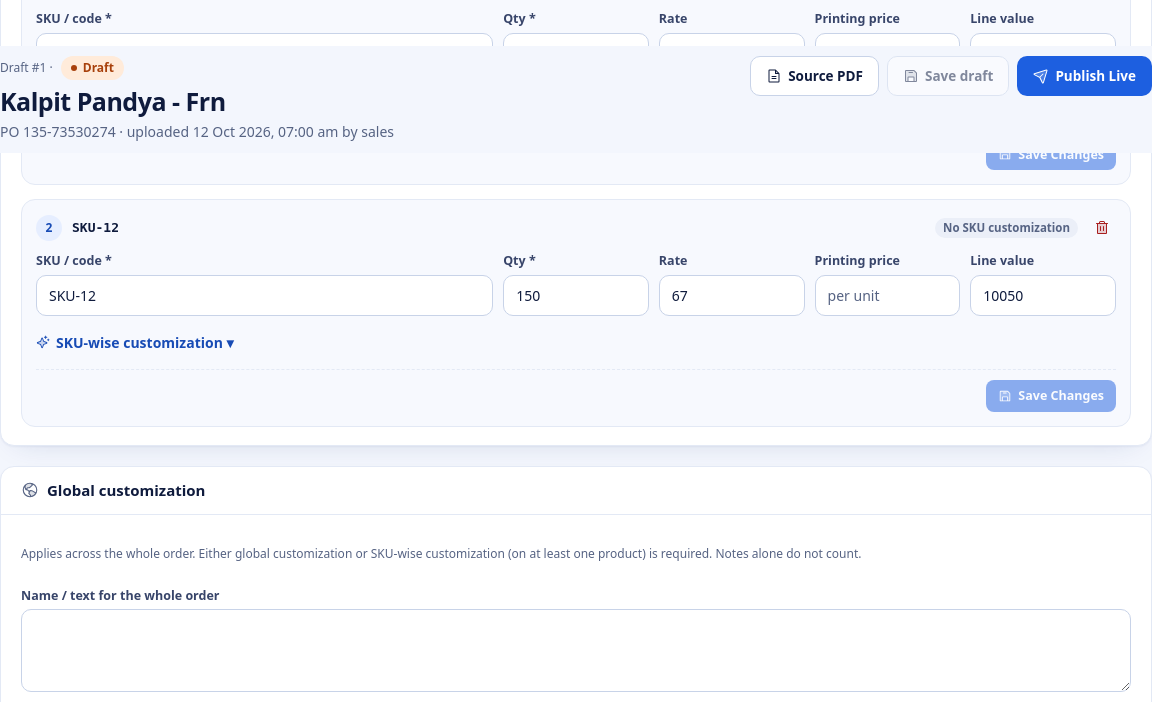
Test: Save draft › makes a failed save impossible to miss and keeps the edits
The width and height of the screenshot is (1152, 702).
(page scrolled)
Click the button "SKU-wise customization ▾" at [135, 342], box [36,328,234,357]
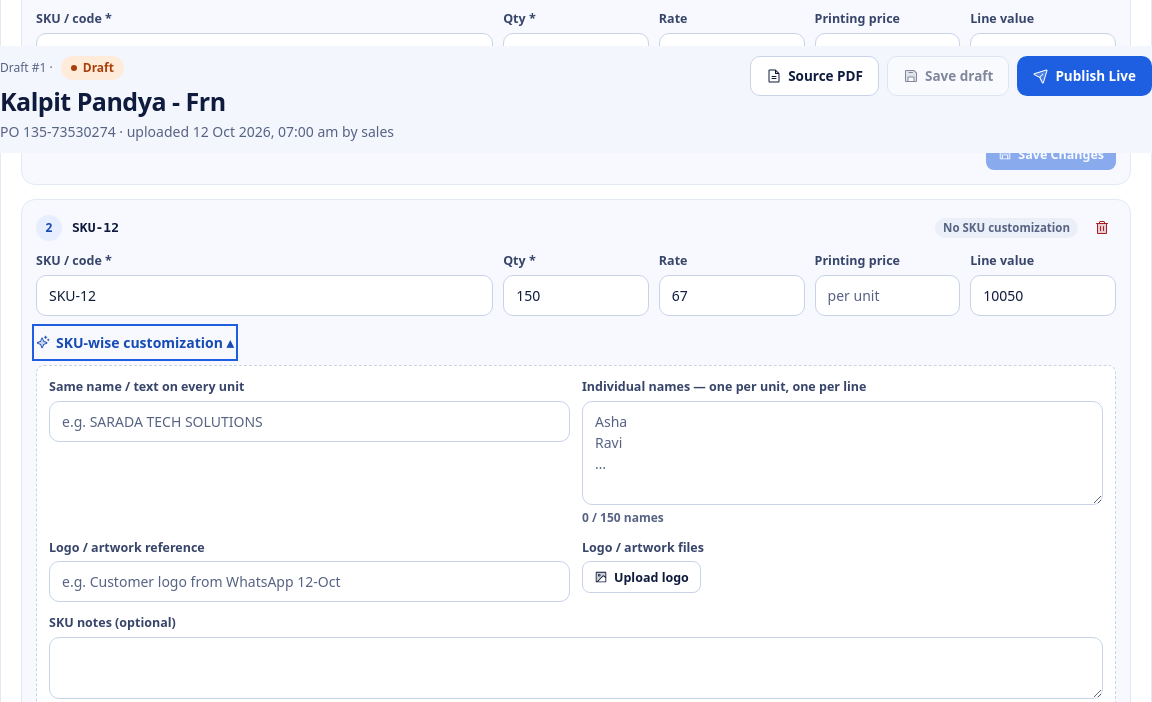
Type "keep me" into the text box labelled "SKU notes (optional)" at [576, 668], box [49,637,1103,699]
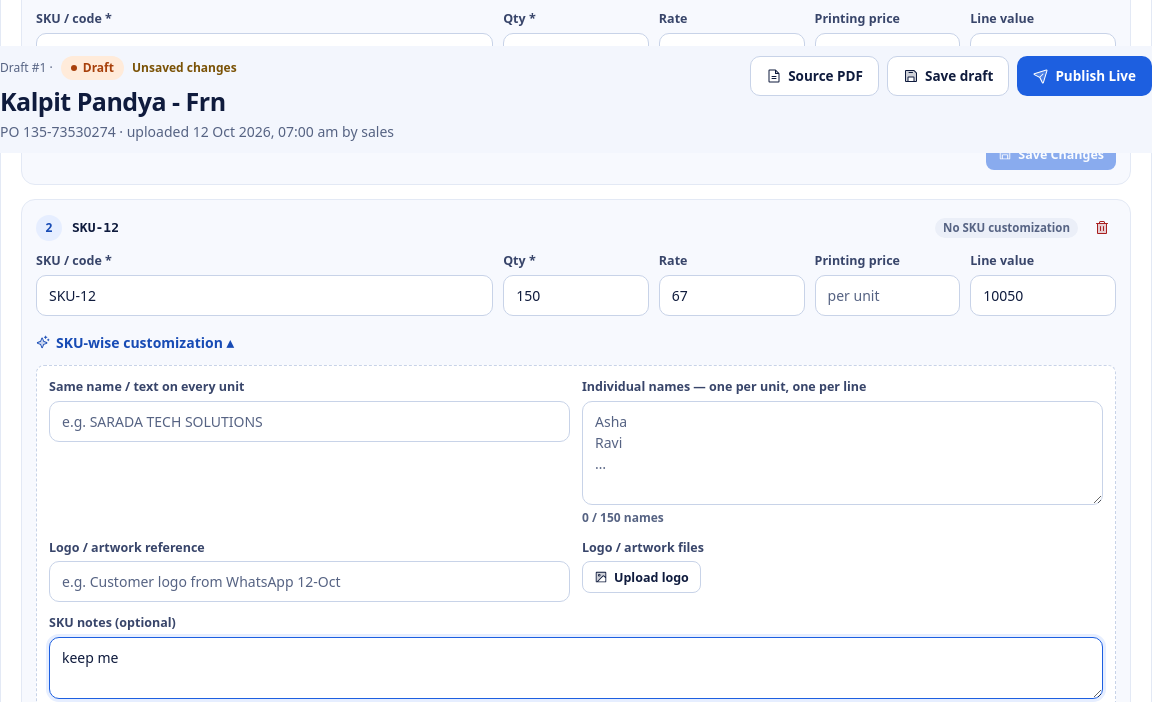
Click the button "Save draft" at [948, 76], box [887,56,1009,96]
(page scrolled)
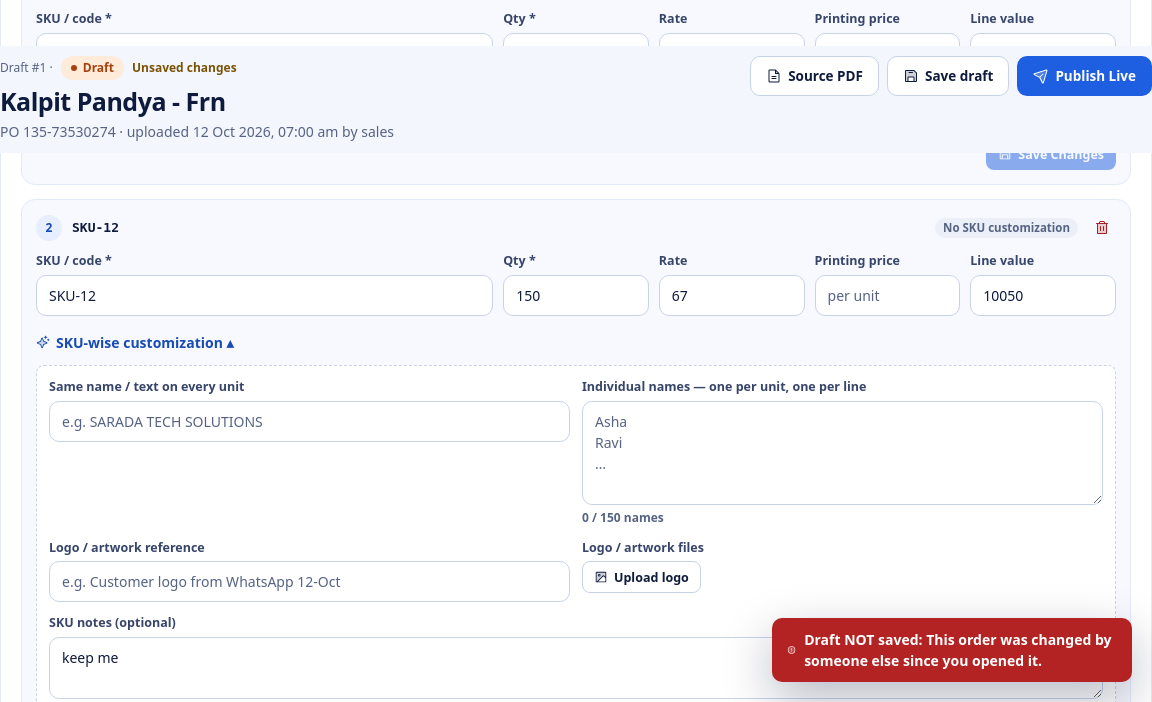
Check: the button "Save draft" is enabled, box [887,56,1009,96]
Check: the text "Draft NOT saved: This order was changed" is shown, box [804,630,1111,670]
